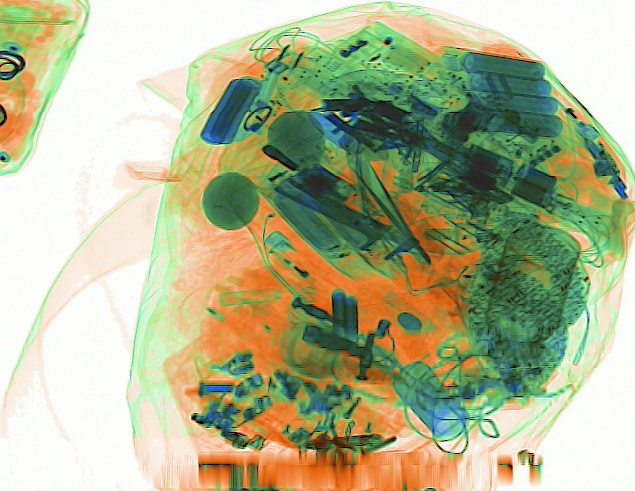lighter: (261, 229, 343, 305), (539, 79, 601, 143)
powerbank: (439, 43, 564, 140)
